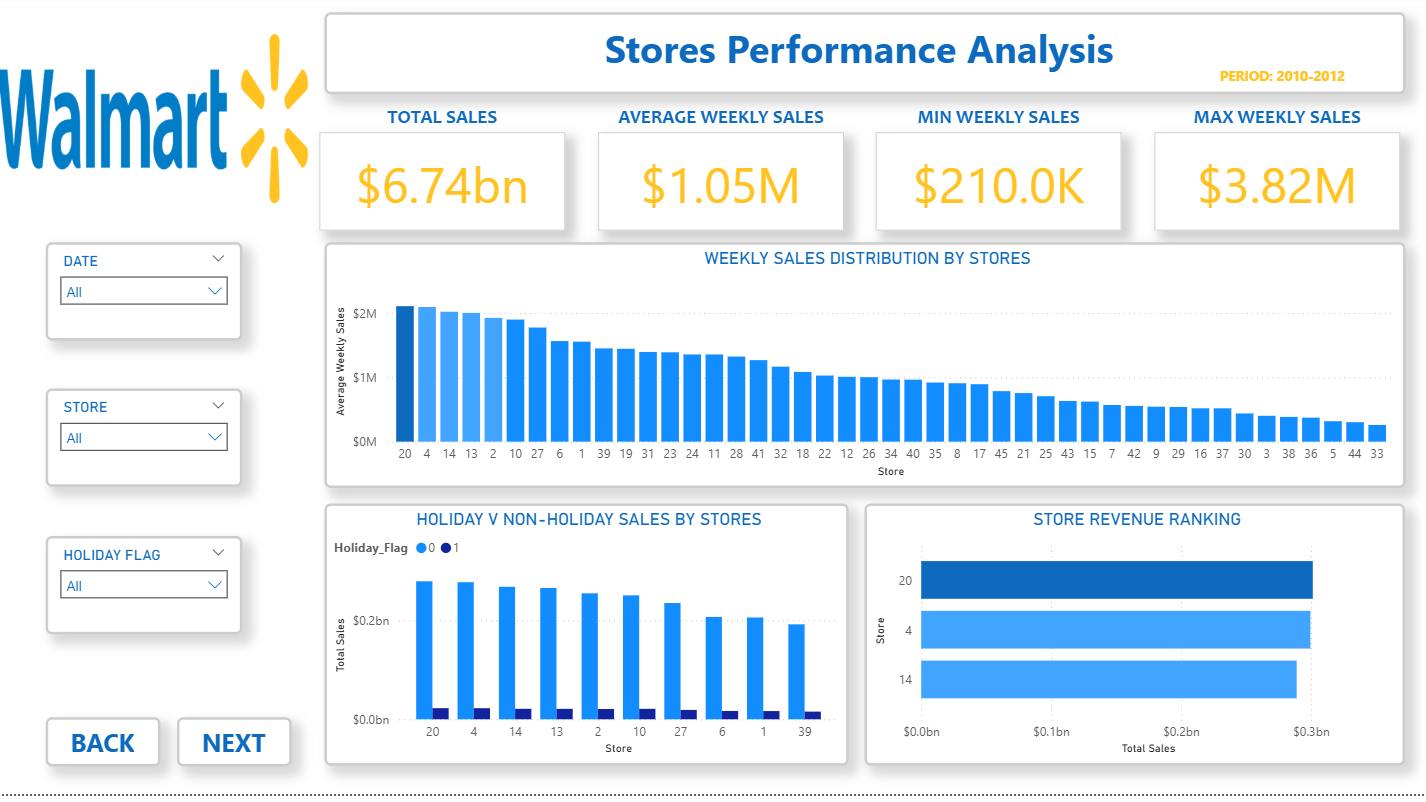

Layout of this report page (visuals, bound fields, positions):
{"tool":"powerbi","page":{"name":"Page 2","canvas":[1400,780],"ordinal":1},"visuals":[{"type":"textbox","box":[320,16,1056,80],"z":0},{"type":"cardVisual","fields":{"Data":["walmart-sales-cleaned.Total Sales"]},"box":[315,133.2,240,96],"z":0,"group":"g1"},{"type":"cardVisual","fields":{"Data":["walmart-sales-cleaned.Average Weekly Sales"]},"box":[587,133.2,240,96],"z":0,"group":"g2"},{"type":"cardVisual","fields":{"Data":["walmart-sales-cleaned.Min weekly sales"]},"box":[859,133.2,240,96],"z":0,"group":"g4"},{"type":"cardVisual","fields":{"Data":["walmart-sales-cleaned.Highest weekly sales"]},"box":[1131,133.2,240,96],"z":0,"group":"g3"},{"type":"textbox","box":[1136,64,240,32],"z":1000},{"type":"textbox","box":[315,101.2,240,48],"z":1000,"group":"g1"},{"type":"textbox","box":[587,101.2,240,48],"z":1000,"group":"g2"},{"type":"textbox","box":[859,101.2,240,48],"z":1000,"group":"g4"},{"type":"textbox","box":[1131,101.2,240,48],"z":1000,"group":"g3"},{"type":"image","box":[0,32,304,176],"z":2000},{"type":"group","id":"g1","title":"Group 1","box":[315,101.2,240,128],"z":3000},{"type":"group","id":"g2","title":"Group 2","box":[587,101.2,240,128],"z":4000},{"type":"group","id":"g3","title":"Group 4","box":[1131,101.2,240,128],"z":5000},{"type":"group","id":"g4","title":"Group 3","box":[859,101.2,240,128],"z":6000},{"type":"columnChart","title":"WEEKLY SALES DISTRIBUTION BY STORES","fields":{"Category":["walmart-sales-cleaned.Store"],"Y":["walmart-sales-cleaned.Average Weekly Sales"]},"box":[320,240,1056,240],"z":7000},{"type":"clusteredColumnChart","title":"HOLIDAY V NON-HOLIDAY SALES BY STORES","fields":{"Category":["walmart-sales-cleaned.Store"],"Y":["walmart-sales-cleaned.Total Sales"],"Series":["walmart-sales-cleaned.Holiday_Flag"]},"box":[320,496,512,256],"z":8000},{"type":"clusteredBarChart","title":"STORE REVENUE RANKING","fields":{"Category":["walmart-sales-cleaned.Store"],"Y":["walmart-sales-cleaned.Total Sales"]},"box":[848,496,528,256],"z":9000},{"type":"slicer","fields":{"Values":["walmart-sales-cleaned.formatted_date"]},"box":[48,240,192,96],"z":10000},{"type":"slicer","fields":{"Values":["walmart-sales-cleaned.Store"]},"box":[48,384,192,96],"z":11000},{"type":"slicer","fields":{"Values":["walmart-sales-cleaned.Holiday_Flag"]},"box":[48,528,192,96],"z":12000},{"type":"actionButton","box":[48,704,112,48],"z":12001},{"type":"actionButton","box":[176,704,112,48],"z":12002}]}

Visuals, with their boxes in screenshot pixels (x1, y1, x2, y2), scaled from the page's 1400x780 canvas onto the 1426x802 screenshot:
textbox: [left=326, top=16, right=1402, bottom=99]
cardVisual - walmart-sales-cleaned.Total Sales: [left=321, top=137, right=565, bottom=236]
cardVisual - walmart-sales-cleaned.Average Weekly Sales: [left=598, top=137, right=842, bottom=236]
cardVisual - walmart-sales-cleaned.Min weekly sales: [left=875, top=137, right=1119, bottom=236]
cardVisual - walmart-sales-cleaned.Highest weekly sales: [left=1152, top=137, right=1396, bottom=236]
textbox: [left=1157, top=66, right=1402, bottom=99]
textbox: [left=321, top=104, right=565, bottom=153]
textbox: [left=598, top=104, right=842, bottom=153]
textbox: [left=875, top=104, right=1119, bottom=153]
textbox: [left=1152, top=104, right=1396, bottom=153]
image: [left=0, top=33, right=310, bottom=214]
"Group 1" group: [left=321, top=104, right=565, bottom=236]
"Group 2" group: [left=598, top=104, right=842, bottom=236]
"Group 4" group: [left=1152, top=104, right=1396, bottom=236]
"Group 3" group: [left=875, top=104, right=1119, bottom=236]
"WEEKLY SALES DISTRIBUTION BY STORES" columnChart: [left=326, top=247, right=1402, bottom=494]
"HOLIDAY V NON-HOLIDAY SALES BY STORES" clusteredColumnChart: [left=326, top=510, right=847, bottom=773]
"STORE REVENUE RANKING" clusteredBarChart: [left=864, top=510, right=1402, bottom=773]
slicer - walmart-sales-cleaned.formatted_date: [left=49, top=247, right=244, bottom=345]
slicer - walmart-sales-cleaned.Store: [left=49, top=395, right=244, bottom=494]
slicer - walmart-sales-cleaned.Holiday_Flag: [left=49, top=543, right=244, bottom=642]
actionButton: [left=49, top=724, right=163, bottom=773]
actionButton: [left=179, top=724, right=293, bottom=773]
